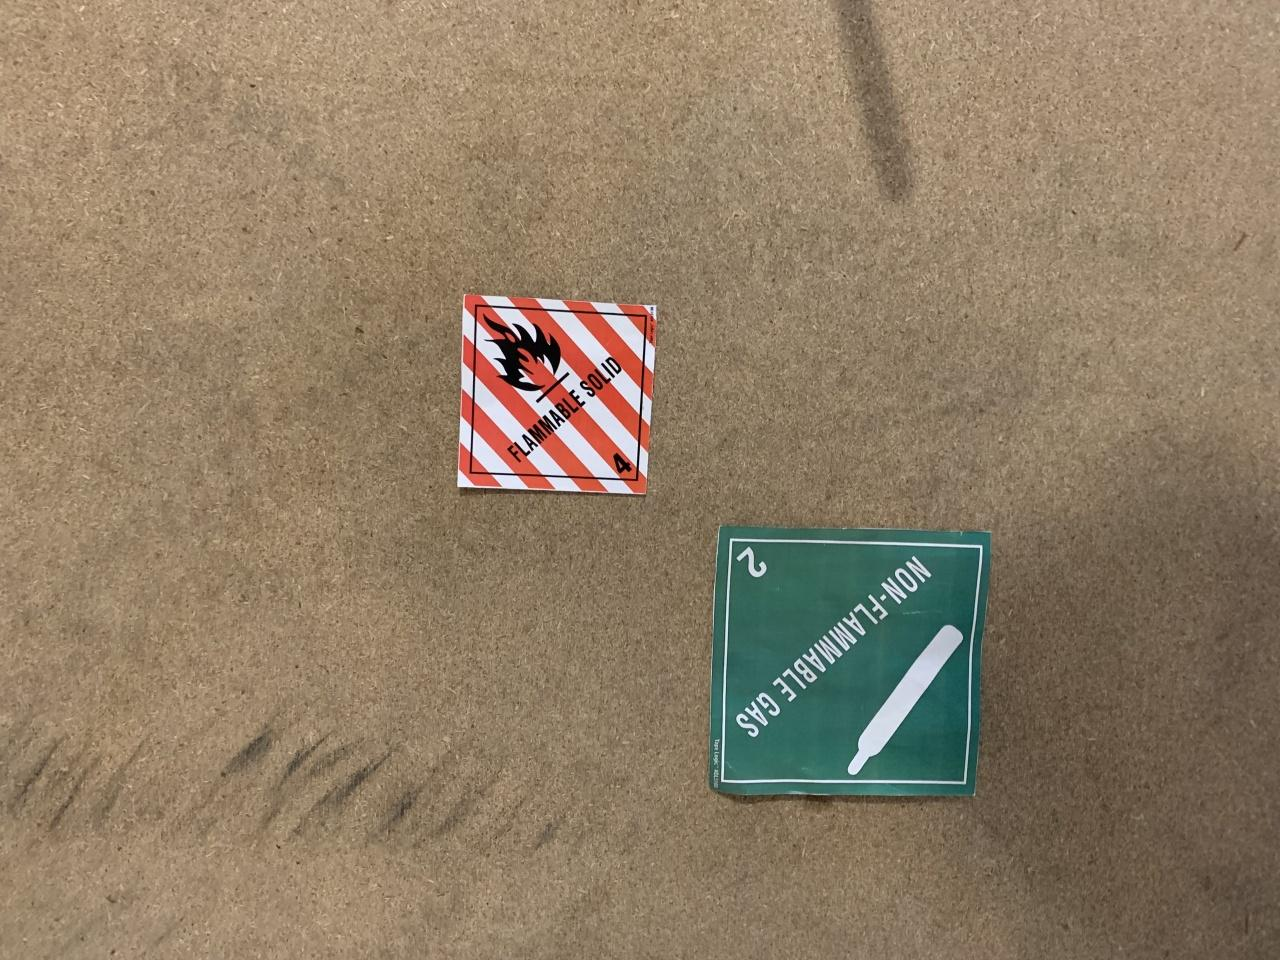flammable-solid: (463, 296, 652, 492)
non-flammable-gas: (712, 529, 984, 796)
